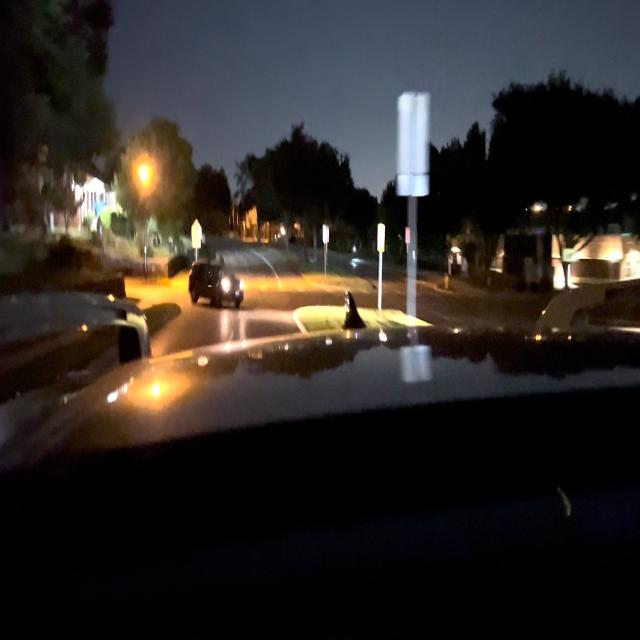back-of-sign: (399, 92, 430, 195)
